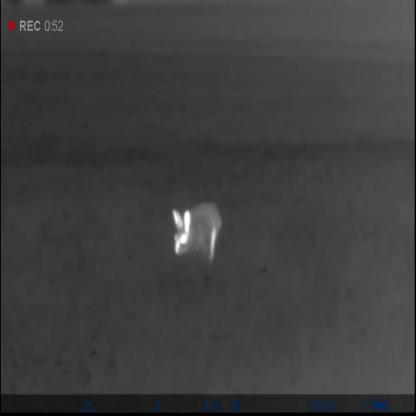rehkitze: (171, 203, 227, 263)
